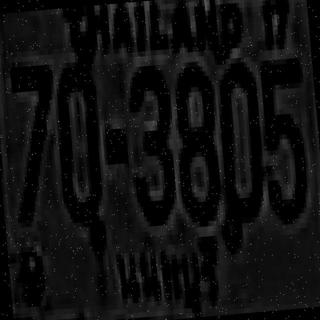N00: (49, 61, 105, 224), (212, 59, 265, 222)
N03: (124, 62, 177, 220)
N05: (256, 55, 310, 218)
N07: (7, 59, 60, 222)
N08: (168, 60, 220, 224)
P37: (112, 230, 222, 320)
